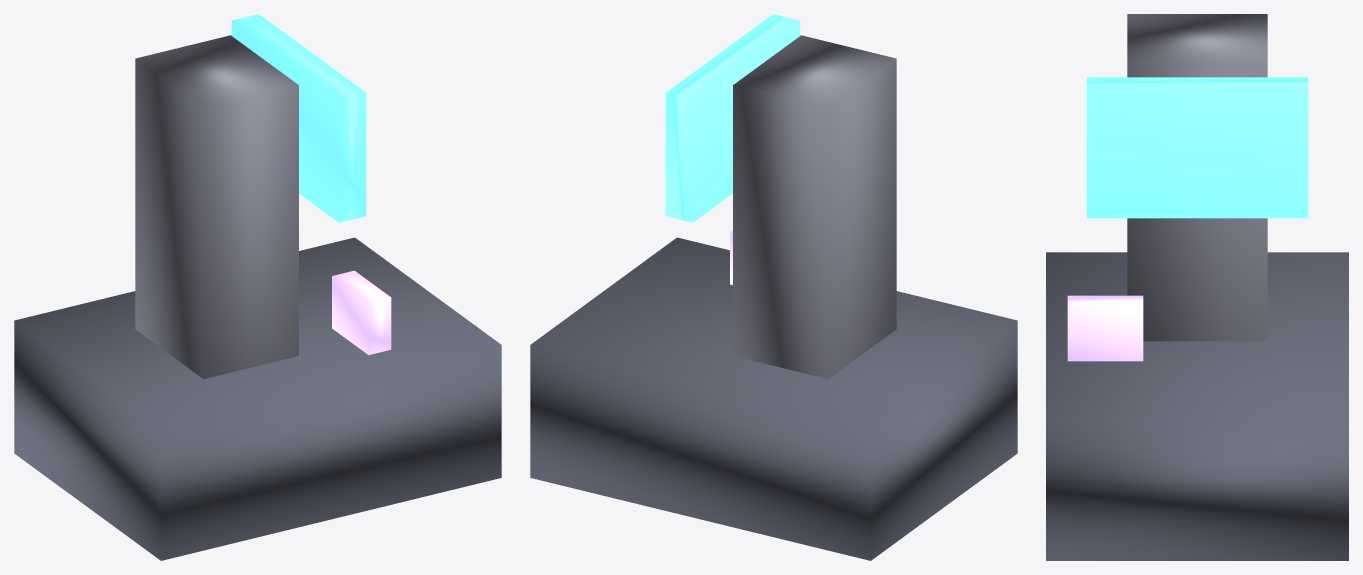
The model's file is parallax-reference-console-lod2.glb.
3 views of the same model, side by side, from view 1: azimuth 30°, elevation 25°; view 2: azimuth 150°, elevation 25°; view 3: azimuth 270°, elevation 25° (orthographic). The views are drawn at different scales.
Parts seen in each view (by area): view 1: parallax-reference-console-base, parallax-reference-console-mast, parallax-reference-console-screen, parallax-reference-console-status; view 2: parallax-reference-console-base, parallax-reference-console-mast, parallax-reference-console-screen; view 3: parallax-reference-console-base, parallax-reference-console-screen, parallax-reference-console-mast, parallax-reference-console-status.
Boxes of the visible parts, bbox=[...] form: parallax-reference-console-base: bbox=[14, 237, 501, 560]; parallax-reference-console-mast: bbox=[135, 35, 298, 379]; parallax-reference-console-screen: bbox=[231, 14, 366, 222]; parallax-reference-console-status: bbox=[332, 270, 391, 355]; parallax-reference-console-base: bbox=[530, 237, 1017, 560]; parallax-reference-console-mast: bbox=[733, 35, 896, 379]; parallax-reference-console-screen: bbox=[665, 14, 800, 222]; parallax-reference-console-base: bbox=[1046, 252, 1348, 560]; parallax-reference-console-screen: bbox=[1086, 77, 1308, 218]; parallax-reference-console-mast: bbox=[1127, 14, 1267, 341]; parallax-reference-console-status: bbox=[1067, 295, 1143, 361].
Bounding box in the file's own units: 1.5 × 1.7 × 1.12.
